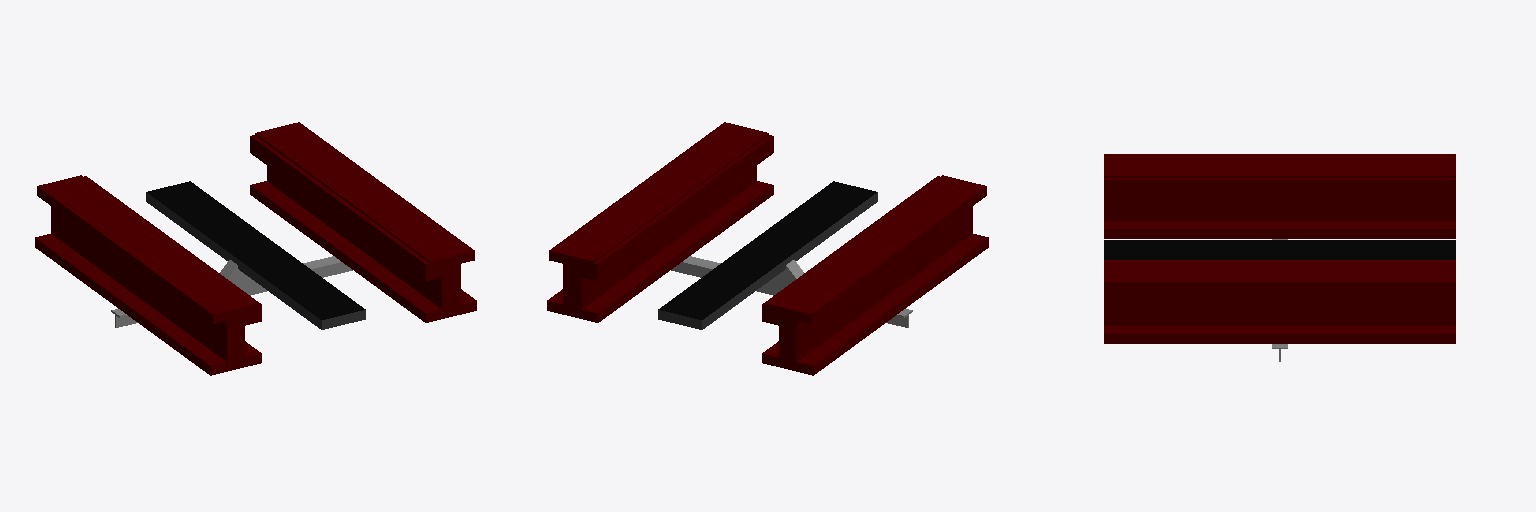
Rendered from rmc_lift.obj.
The picture shows the model from 3 angles: view 1: azimuth 30°, elevation 25°; view 2: azimuth 150°, elevation 25°; view 3: azimuth 270°, elevation 25°; orthographic projection.
Bounding box in the file's own units: 1.52 × 0.3905 × 1.65.